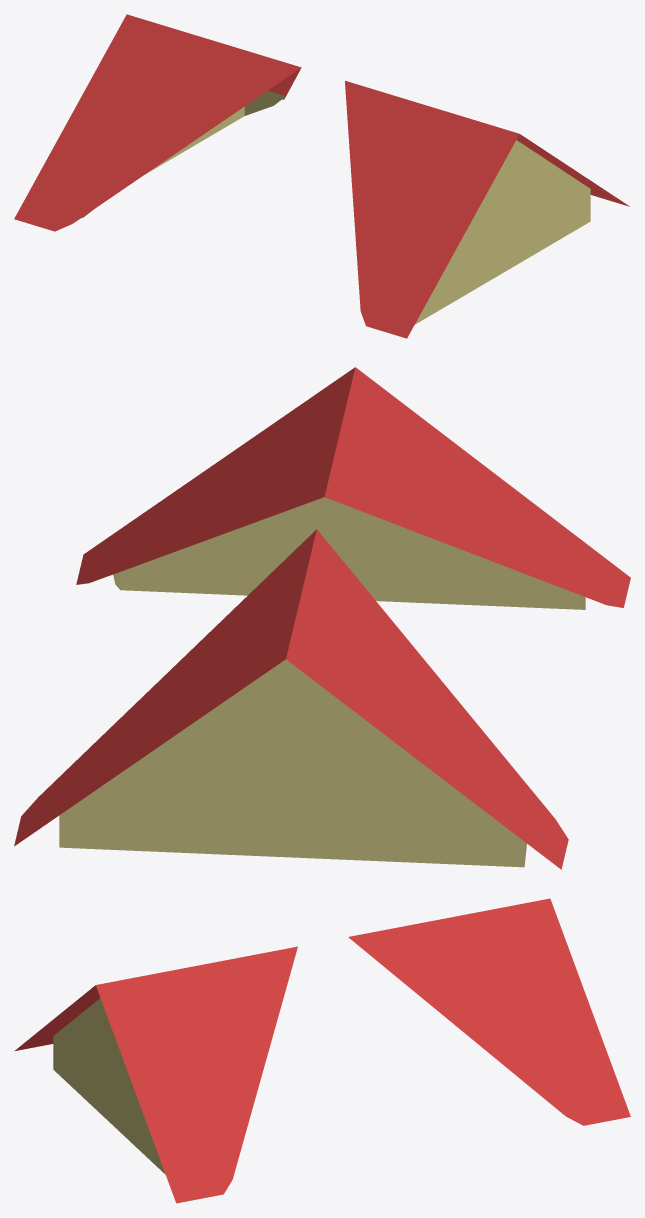
The picture shows the model from 3 angles, top to bottom: view 1: azimuth 30°, elevation 25°; view 2: azimuth 150°, elevation 25°; view 3: azimuth 270°, elevation 25°; orthographic projection. The views are drawn at different scales.
Bounding box in the file's own units: 14.27 × 15.59 × 4.31.
